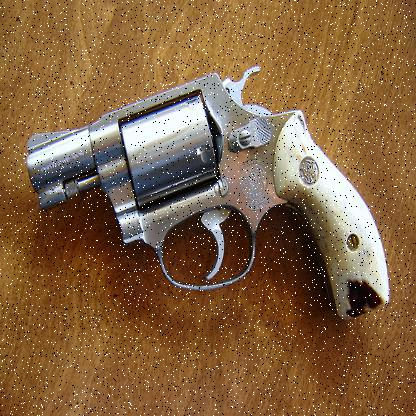pistol: (25, 63, 389, 329)
